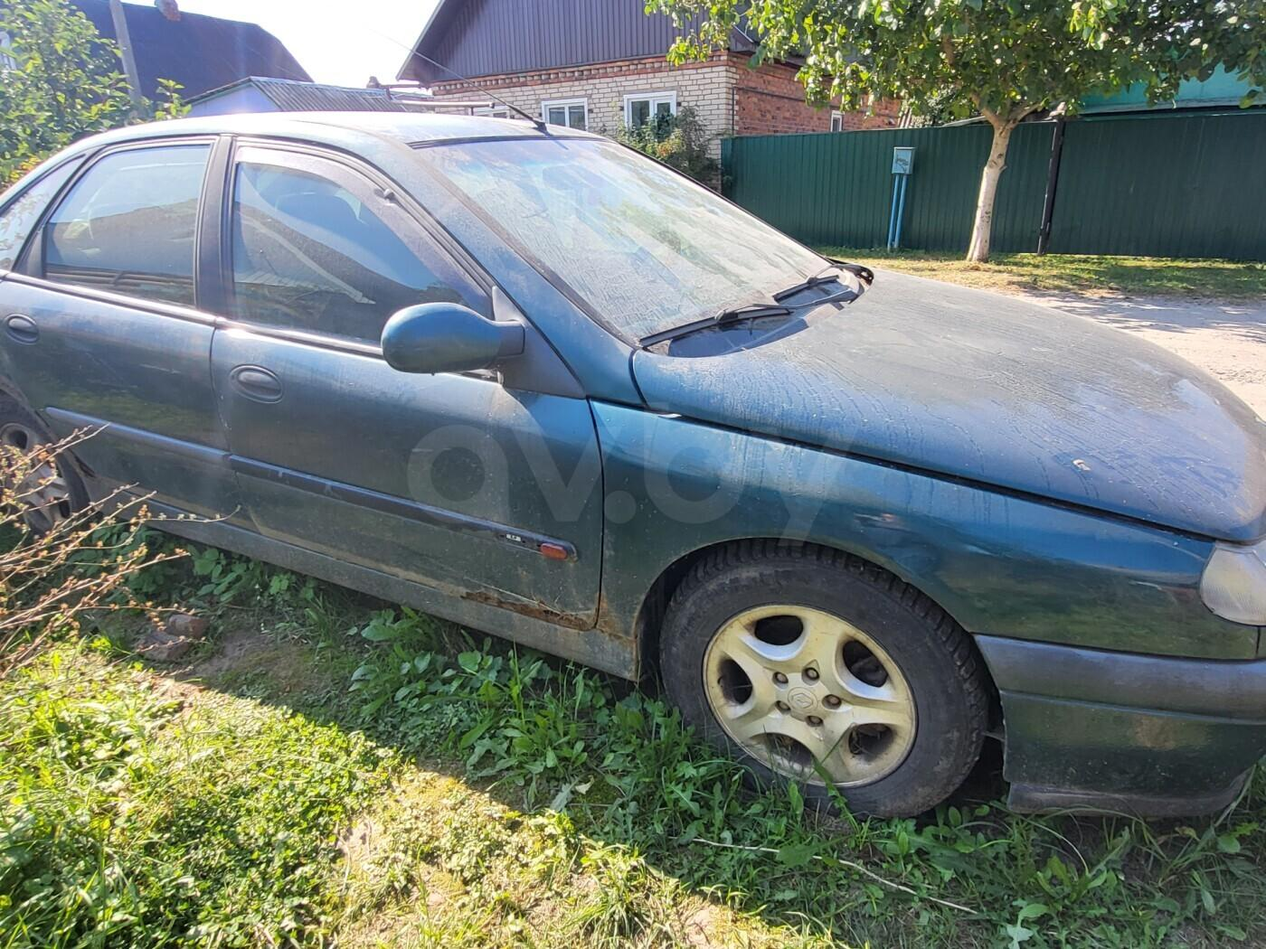Lahuna_1993-1999: (0, 102, 1266, 839)
